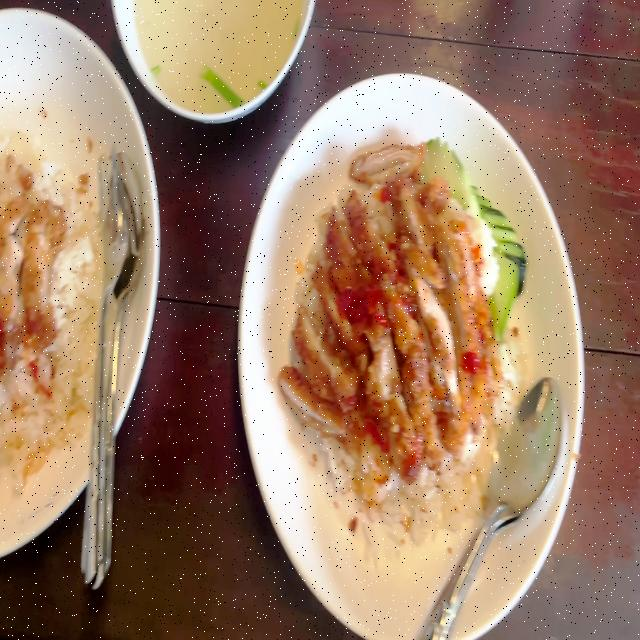chicken_rice: (291, 134, 526, 565), (0, 122, 112, 474)
cucumber: (468, 172, 529, 336), (422, 137, 483, 229)
fried_chicken: (283, 145, 501, 499), (0, 160, 63, 394)
